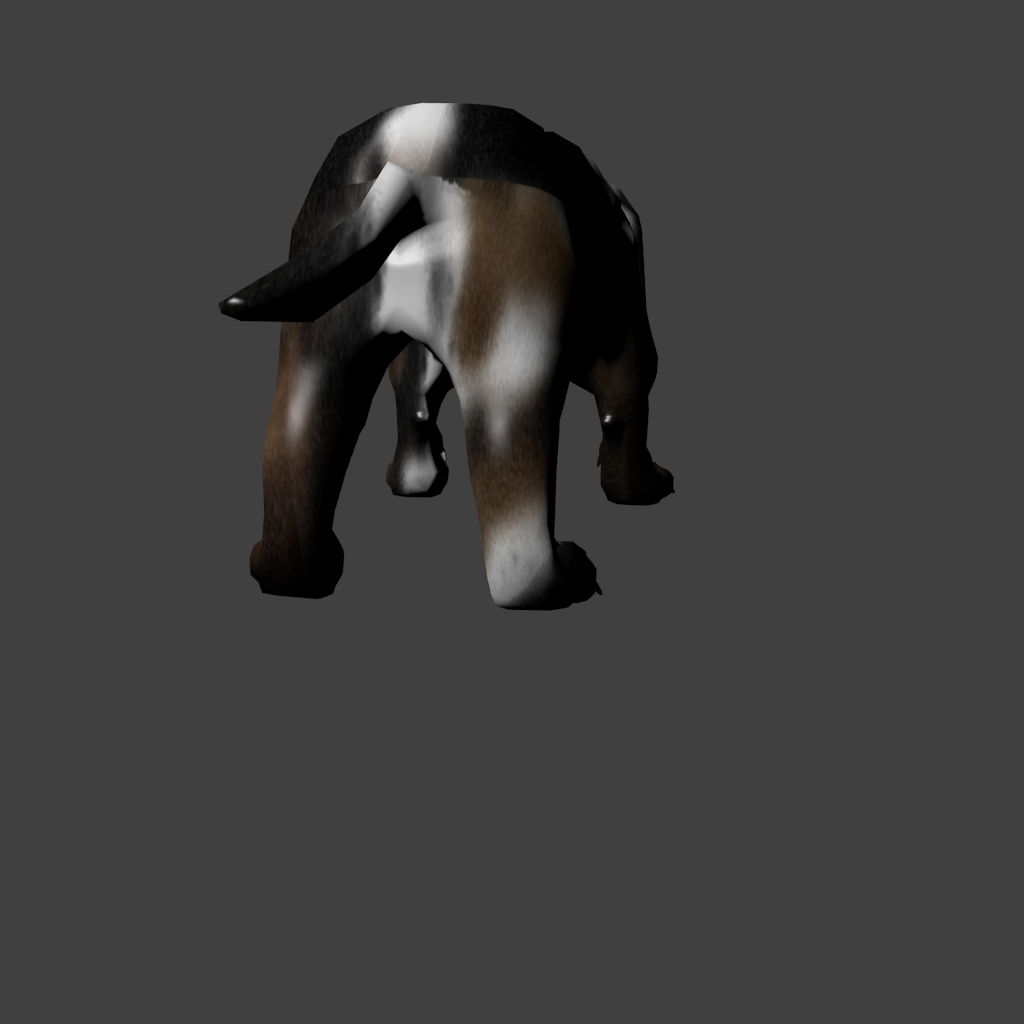Dog: (218, 103, 457, 508)
